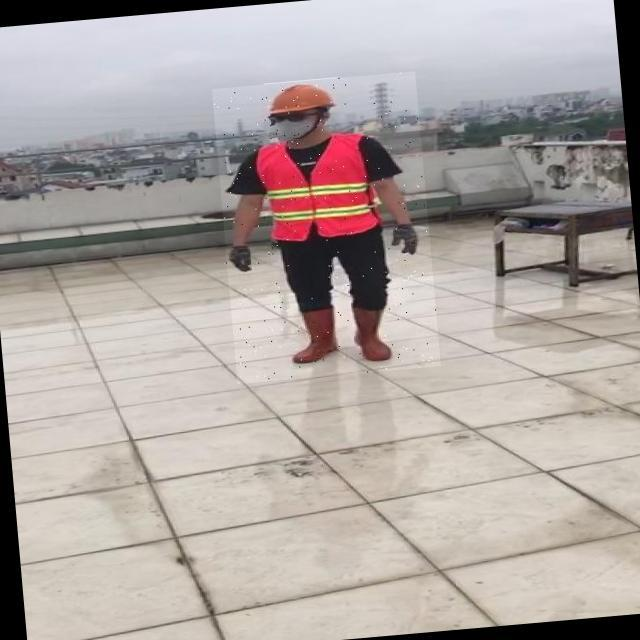Gloves: (387, 223, 420, 258), (224, 243, 253, 272)
Helmet: (264, 77, 341, 117)
Human: (212, 71, 441, 384)
Safety Boot: (289, 307, 340, 365), (347, 303, 396, 362)
Safety Vest: (257, 133, 381, 242)
